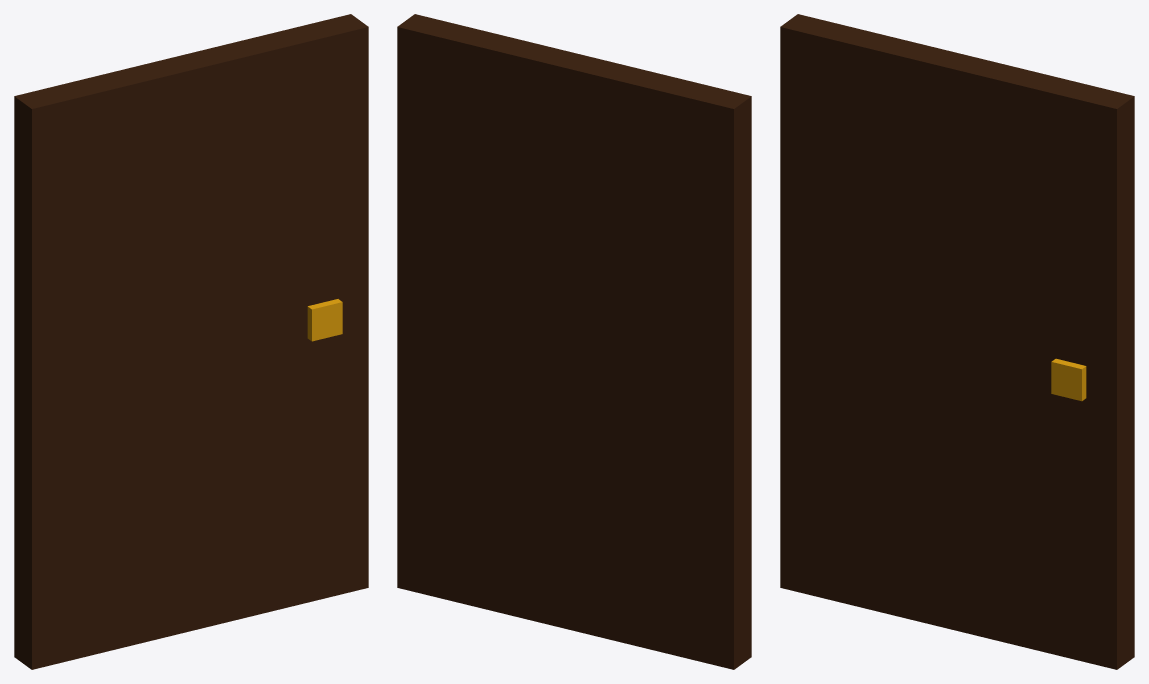
The model's file is drzwi.fbx.
3 views of the same model, side by side, from view 1: azimuth 30°, elevation 25°; view 2: azimuth 150°, elevation 25°; view 3: azimuth 330°, elevation 25° (orthographic).
Visible parts, largest first — view 1: Cube, Cube.001; view 2: Cube; view 3: Cube, Cube.001.
Boxes of the visible parts, x1,y1,x2,y2 form: Cube: (14,14,368,669); Cube.001: (307,299,342,341); Cube: (397,14,751,669); Cube: (780,14,1134,669); Cube.001: (1051,358,1086,401).
Bounding box in the file's own units: 110 × 175 × 12.5.
